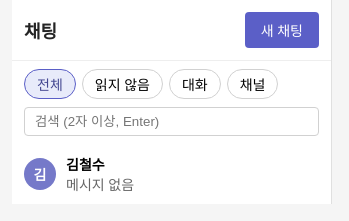
Scenario: 대화 목록 분리와 메뉴 › 1:1 대화 메뉴에는 나가기를 표시하지 않는다
The width and height of the screenshot is (349, 221).
Right-click the button "김 김철수 메시지 없음" at [40, 174], box [12,144,331,204]
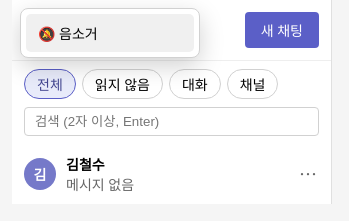
Result: the menu item "🔕 음소거" is shown at [26,14,194,52]
